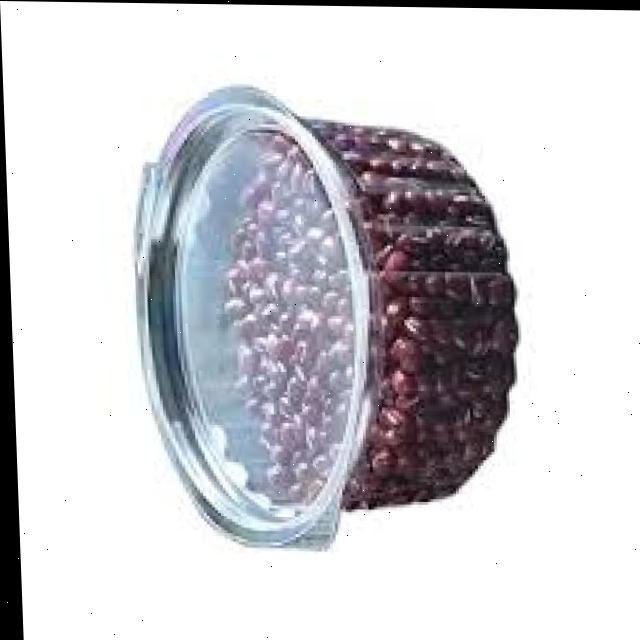disposable: (106, 72, 546, 575)
